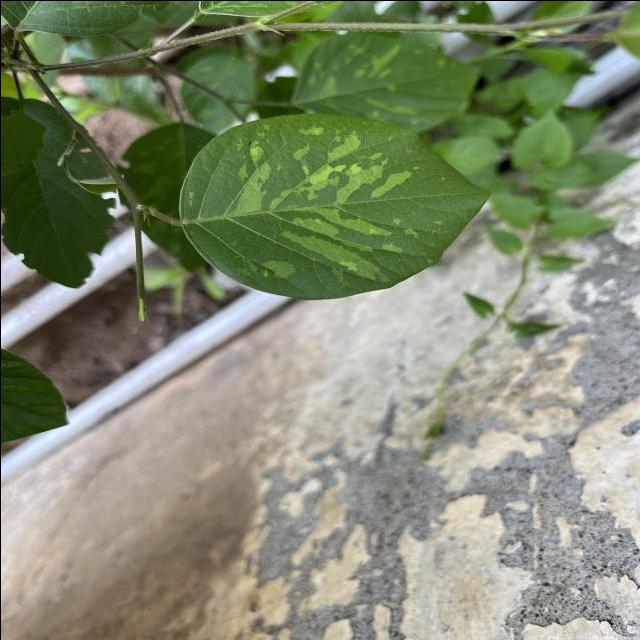Desmodium gangeticum: (175, 109, 494, 302)
